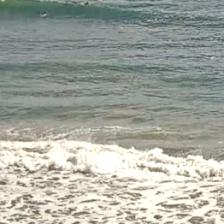surfer: (40, 9, 49, 17), (83, 1, 89, 6), (128, 0, 134, 2)
